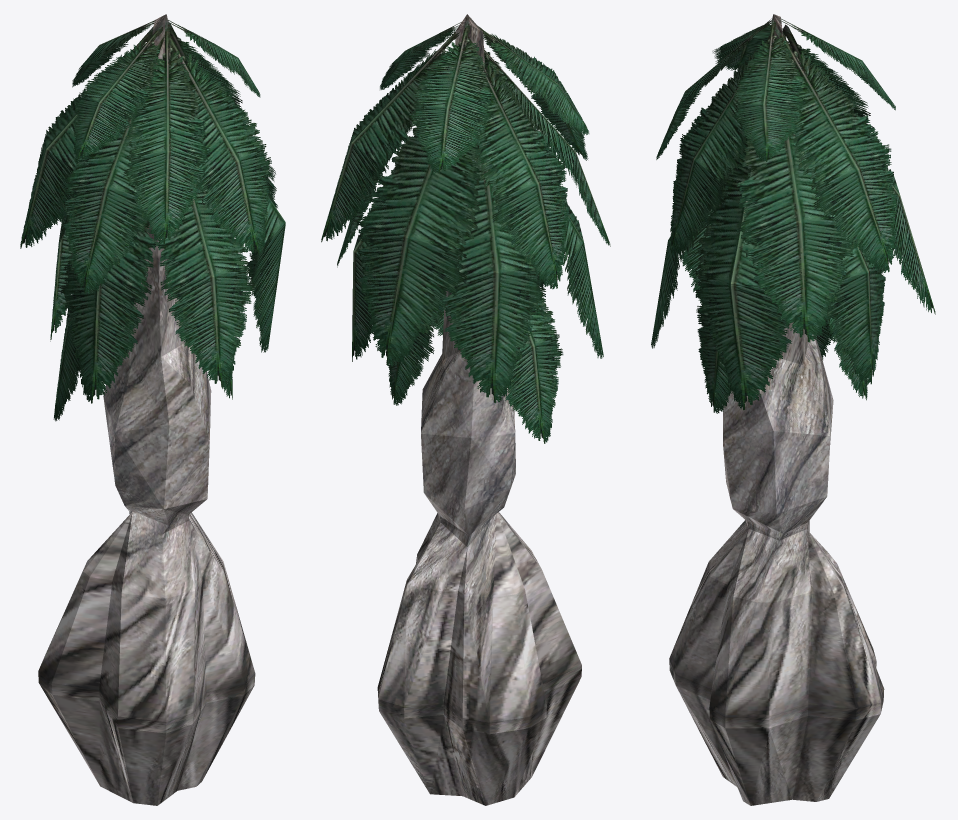
The model's file is decd_boffa_big_l0.fbx.
The picture shows the model from 3 angles, left to right: view 1: azimuth 30°, elevation 25°; view 2: azimuth 150°, elevation 25°; view 3: azimuth 270°, elevation 25°; orthographic projection. The views are drawn at different scales.
Parts seen in each view (by area): view 1: mesh_node; view 2: mesh_node; view 3: mesh_node.
Part boxes in pixels (bbox=[...]): mesh_node: bbox=[20, 14, 285, 805]; mesh_node: bbox=[321, 14, 610, 805]; mesh_node: bbox=[651, 14, 935, 805].
Size of the model in its own units: 6.56 by 19.73 by 6.81.
